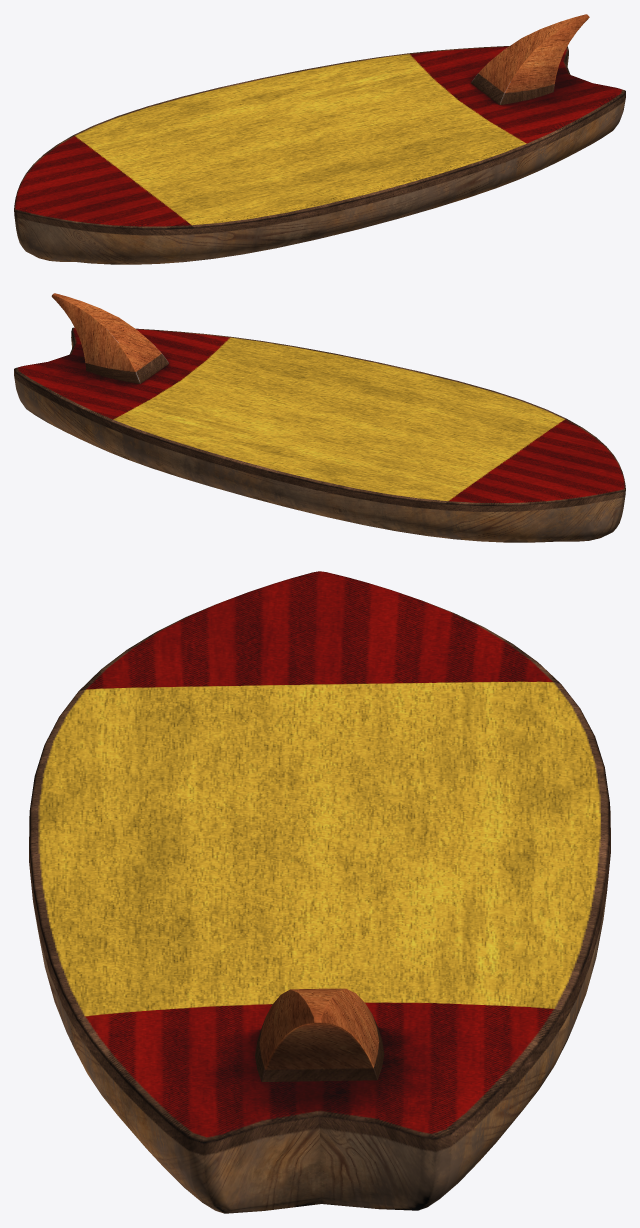
The model's file is Tabla_Surf.fbx.
The picture shows the model from 3 angles, top to bottom: view 1: azimuth 30°, elevation 25°; view 2: azimuth 150°, elevation 25°; view 3: azimuth 270°, elevation 25°; orthographic projection. The views are drawn at different scales.
Parts seen in each view (by area): view 1: Mesh5; view 2: Mesh5; view 3: Mesh5.
Part boxes in pixels (<box>): Mesh5: <box>14,14,625,264</box>; Mesh5: <box>14,293,625,542</box>; Mesh5: <box>29,571,610,1213</box>.
Size of the model in its own units: 4.74 by 0.8594 by 2.05.
